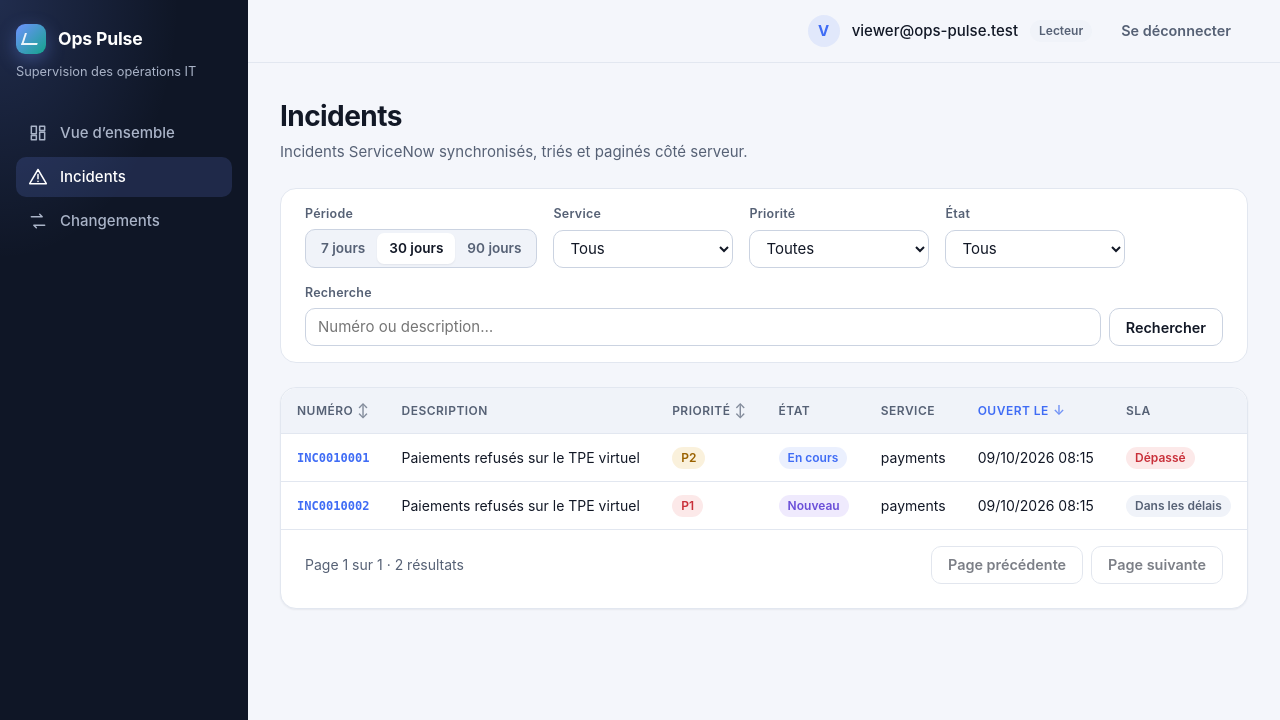
Scenario: IncidentsPage › opens the detail panel on row click
Step 1. Click the button "INC0010001" → x=333, y=458, box left=297, top=447, right=369, bottom=469
(page scrolled)
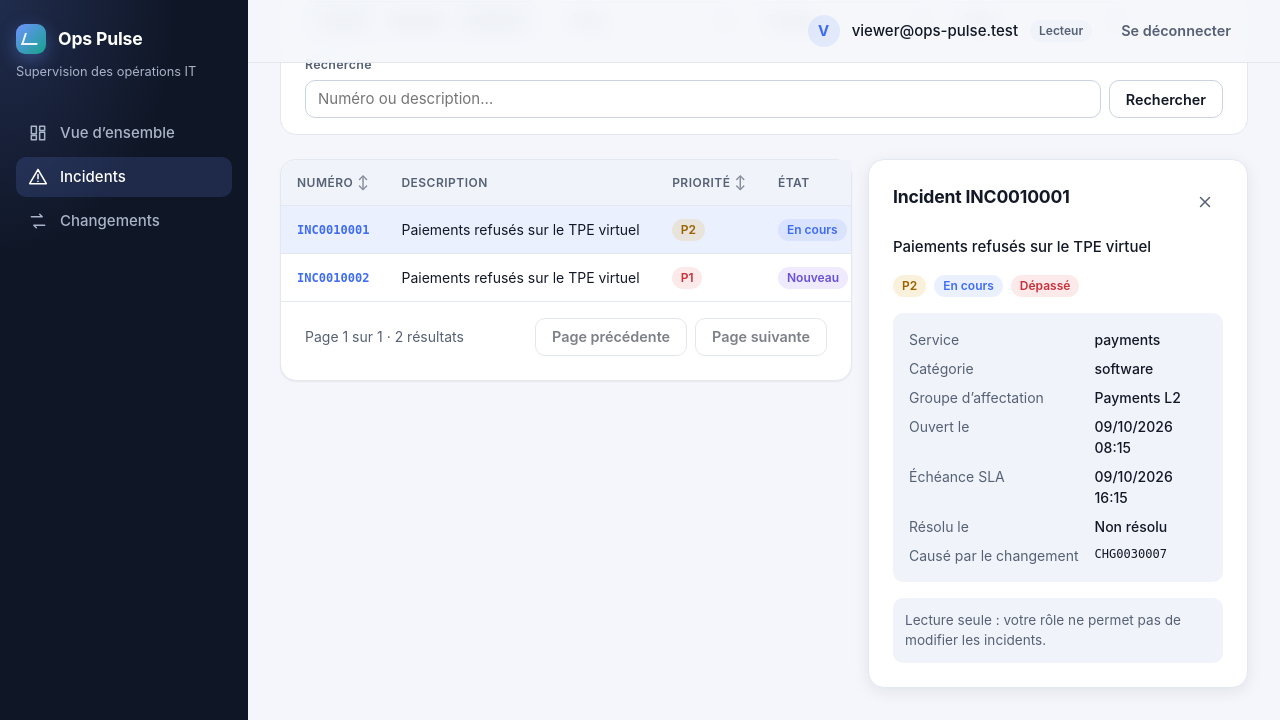
Check: the element "Incident INC0010001" shows "Payments L2", box left=1095, top=389, right=1181, bottom=406
Check: the element "Incident INC0010001" shows "CHG0030007", box left=1095, top=547, right=1167, bottom=561
